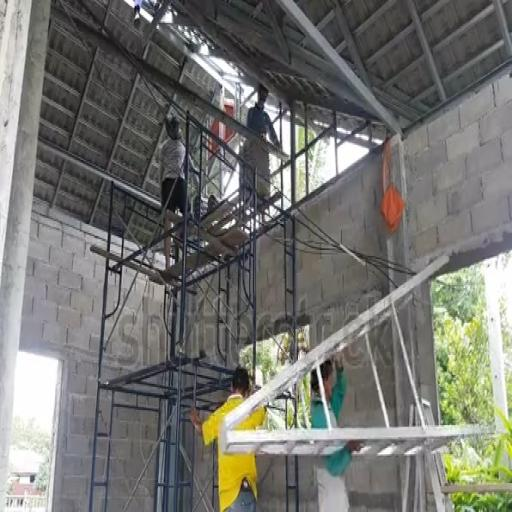head and helmet: (320, 360, 335, 400), (232, 368, 249, 396), (165, 118, 181, 140), (257, 84, 268, 108)
